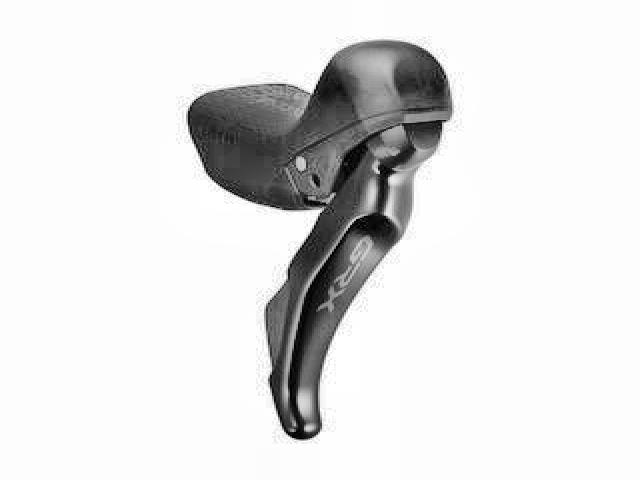sti_shifter: (185, 36, 458, 440)
